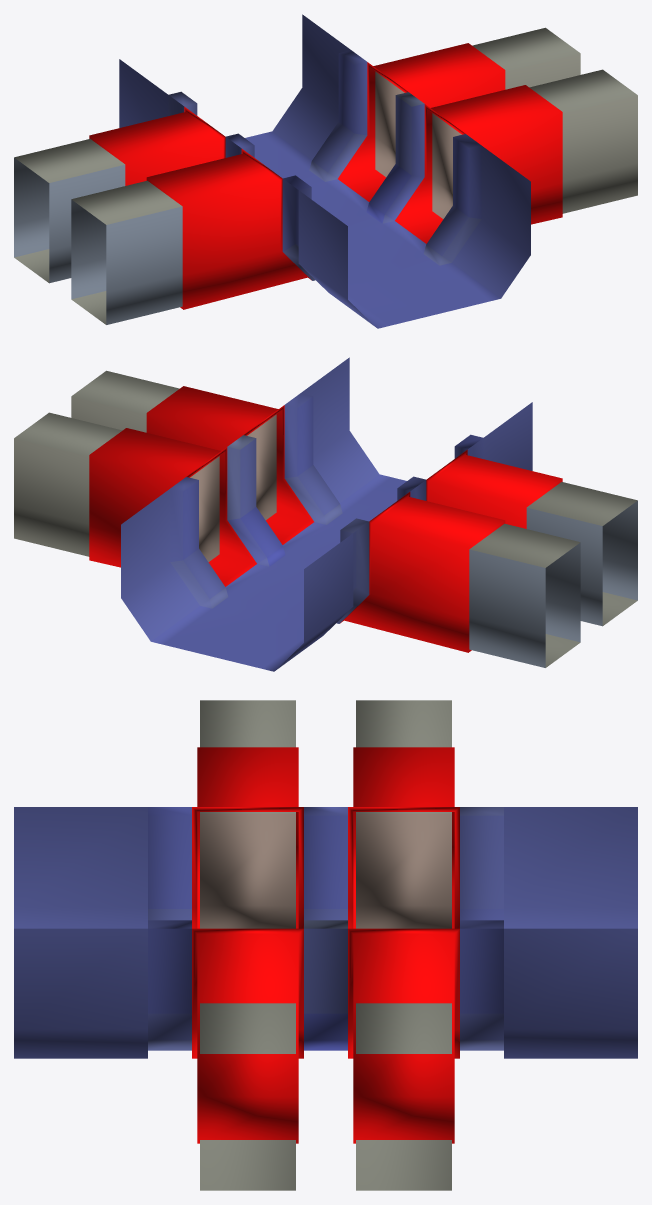
File: White_Straight_Stamps_01.fbx
3 renders of one model, top to bottom at view 1: azimuth 30°, elevation 25°; view 2: azimuth 150°, elevation 25°; view 3: azimuth 270°, elevation 25°, orthographic. The views are drawn at different scales.
Visible parts, largest first — view 1: Mesh, Stamps; view 2: Mesh, Stamps; view 3: Mesh, Stamps.
Part boxes in pixels (x1,y1,x2,y2): Mesh: [89, 14, 562, 328]; Stamps: [14, 27, 637, 324]; Mesh: [89, 357, 562, 671]; Stamps: [14, 370, 637, 667]; Mesh: [14, 747, 637, 1143]; Stamps: [200, 700, 451, 1190].
Bounding box in the file's own units: 2684 × 530 × 2000.
